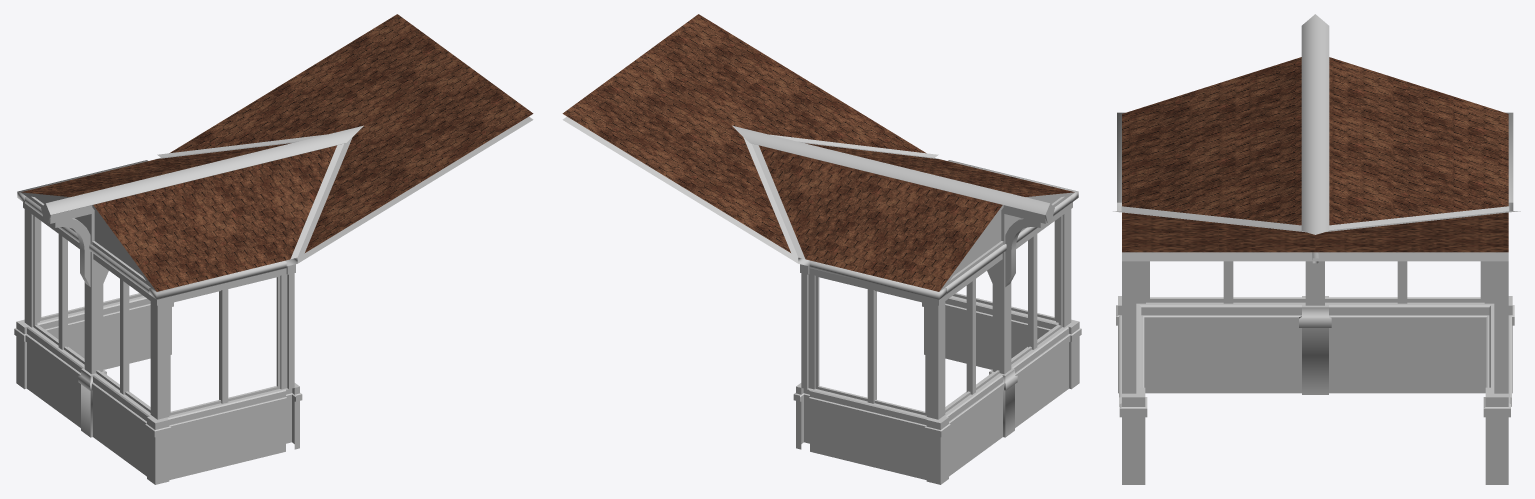
File: SHED_Add_SEGMENT.fbx
3 views of the same model, side by side, from view 1: azimuth 30°, elevation 25°; view 2: azimuth 150°, elevation 25°; view 3: azimuth 270°, elevation 25° (orthographic). The views are drawn at different scales.
Visible parts, largest first — view 1: SHED_WALL_ADD_SEGMENT; view 2: SHED_WALL_ADD_SEGMENT; view 3: SHED_WALL_ADD_SEGMENT.
Part boxes in pixels (bbox=[...]): SHED_WALL_ADD_SEGMENT: bbox=[14, 14, 533, 484]; SHED_WALL_ADD_SEGMENT: bbox=[562, 14, 1081, 484]; SHED_WALL_ADD_SEGMENT: bbox=[1113, 14, 1520, 484].
Bounding box in the file's own units: 6.41 × 4.05 × 3.82.
